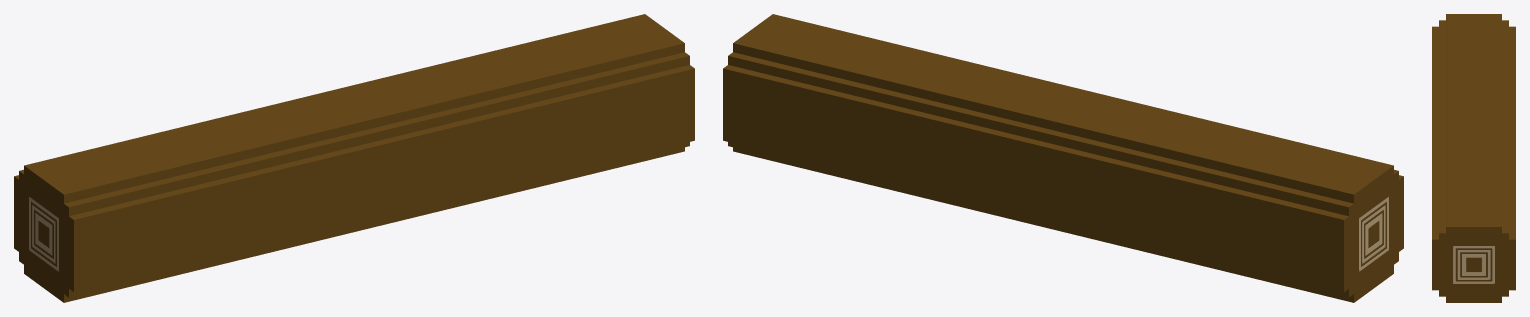
Rendered from RoundWood.fbx.
The picture shows the model from 3 angles, left to right: view 1: azimuth 30°, elevation 25°; view 2: azimuth 150°, elevation 25°; view 3: azimuth 270°, elevation 25°; orthographic projection. The views are drawn at different scales.
Parts seen in each view (by area): view 1: 평면; view 2: 평면; view 3: 평면.
Boxes of the visible parts, x1=… form: 평면: x1=14, y1=14, x2=694, y2=302; 평면: x1=723, y1=14, x2=1403, y2=302; 평면: x1=1432, y1=14, x2=1515, y2=302.
Bounding box in the file's own units: 300 × 50 × 50.
Materials: 1 (1 with a texture image).
